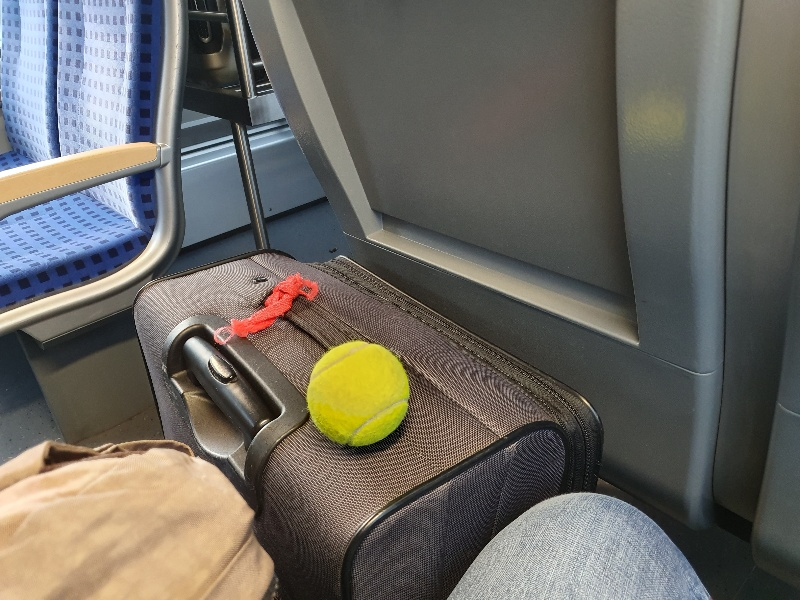Tennisball: (287, 335, 428, 455)
